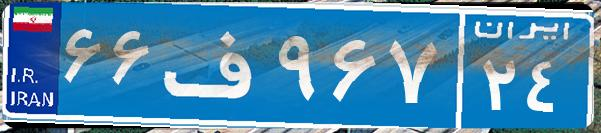2: (475, 38, 525, 113)
4: (525, 38, 570, 115)
6: (330, 28, 385, 110), (57, 26, 110, 107), (110, 28, 158, 105)
7: (385, 28, 445, 110)
9: (273, 28, 330, 110)
ف: (158, 15, 273, 115)
